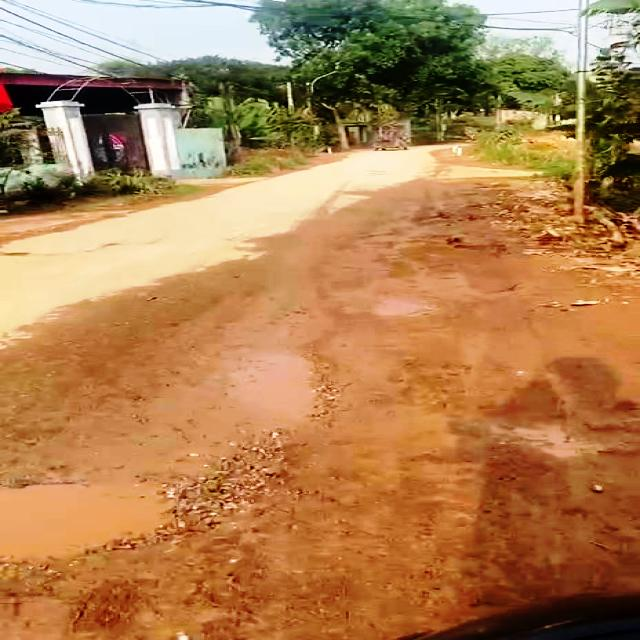pothole: (0, 475, 228, 567)
